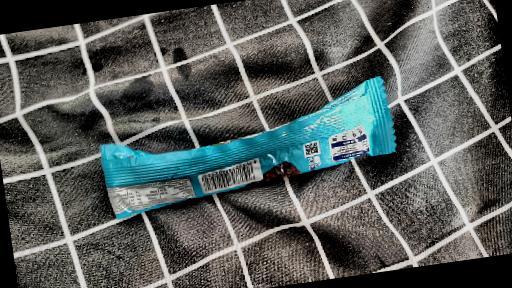dilan: (49, 80, 427, 210)
